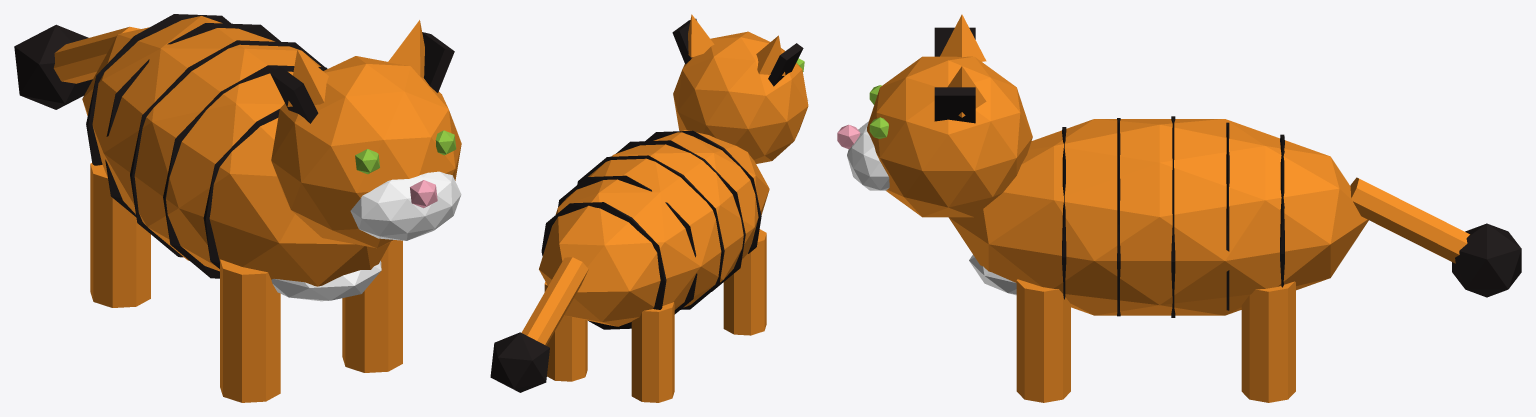
The model's file is Tiger.fbx.
The picture shows the model from 3 angles, left to right: view 1: azimuth 30°, elevation 25°; view 2: azimuth 150°, elevation 25°; view 3: azimuth 270°, elevation 25°; orthographic projection. The views are drawn at different scales.
Visible parts, largest first — view 1: Fur, Stripes, Muzzle, Eyes, Nose; view 2: Fur, Stripes; view 3: Fur, Stripes, Muzzle.
Part boxes in pixels (left/top/right/bottom): Fur: left=53, top=16, right=461, bottom=402; Stripes: left=14, top=14, right=454, bottom=278; Muzzle: left=271, top=171, right=461, bottom=301; Eyes: left=355, top=130, right=456, bottom=174; Nose: left=410, top=180, right=437, bottom=208; Fur: left=521, top=14, right=808, bottom=402; Stripes: left=490, top=18, right=803, bottom=392; Fur: left=867, top=14, right=1469, bottom=402; Stripes: left=934, top=27, right=1521, bottom=317; Muzzle: left=847, top=121, right=1016, bottom=295.
Size of the model in its own units: 1.56 by 2.64 by 5.02.
